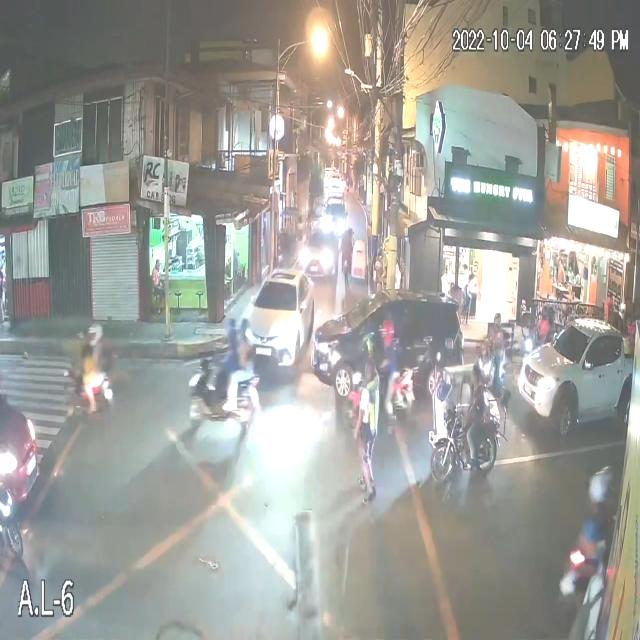Full-Faced: (591, 470, 613, 504), (239, 314, 256, 349), (88, 320, 104, 346), (224, 314, 237, 345)
